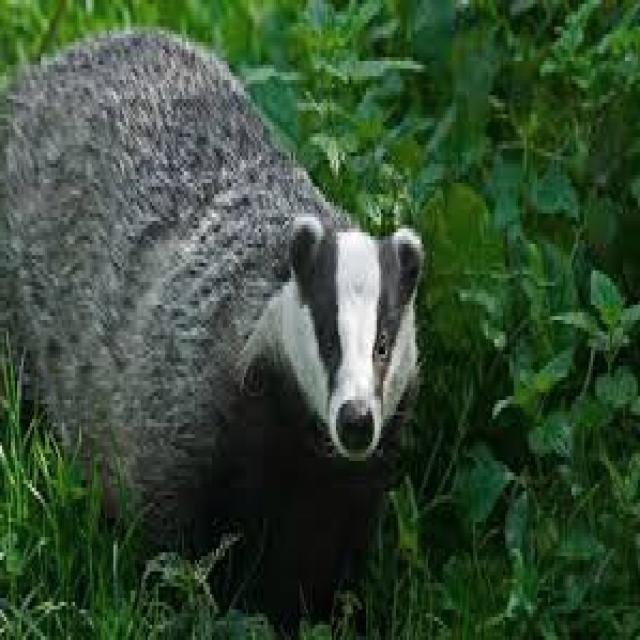badger: (2, 30, 422, 629)
